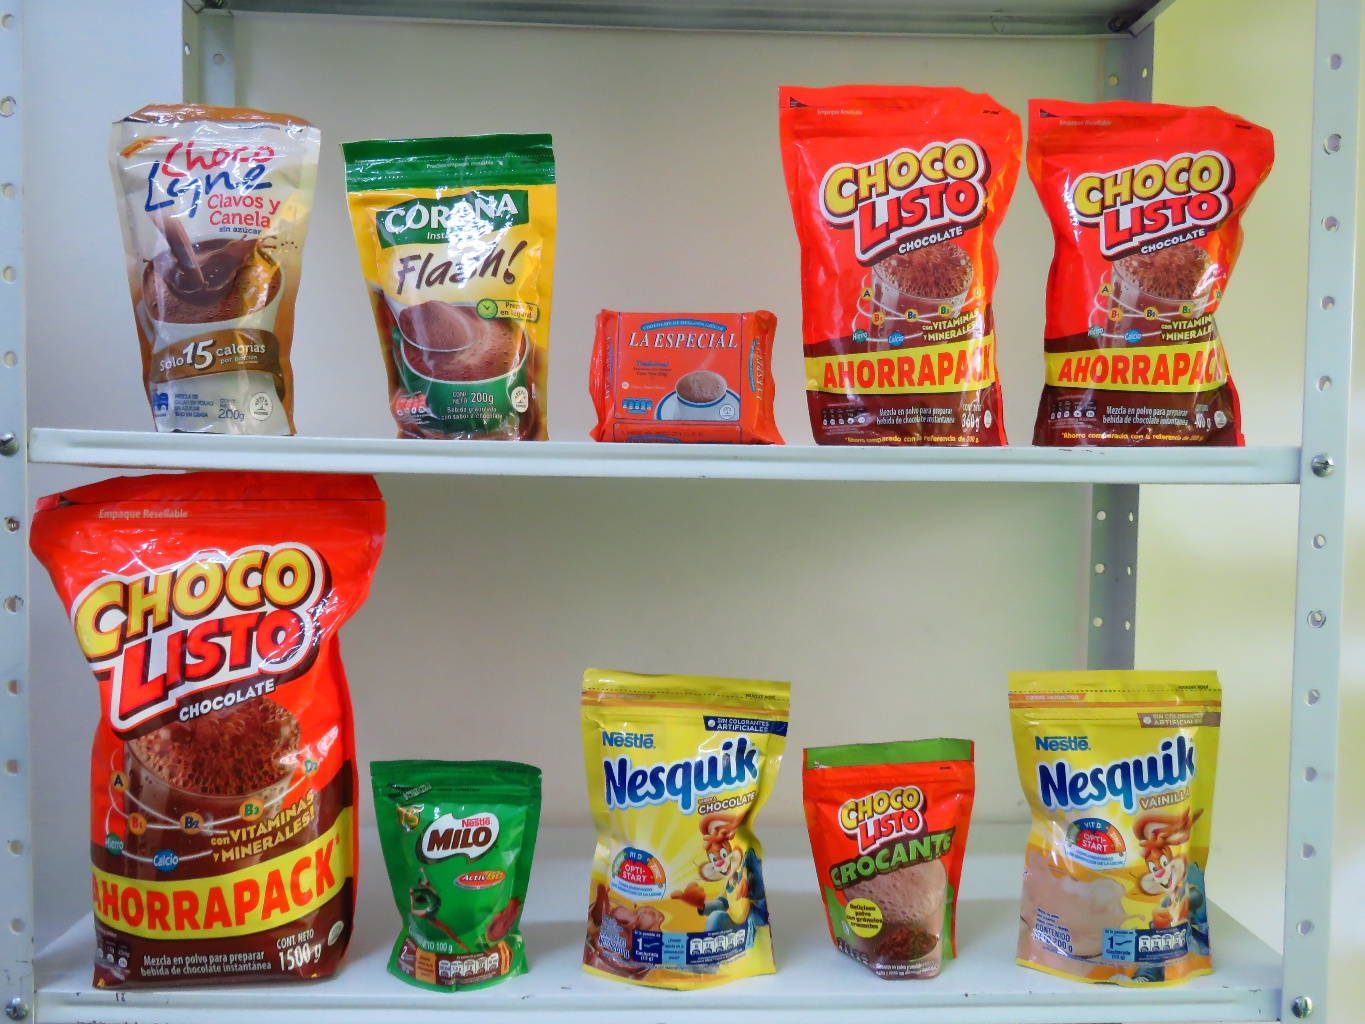COL0170102DYP10000: (782, 717, 993, 991)
COL0170103DYP1,500: (2, 451, 407, 1006)
COL0170103DYP36000: (756, 65, 1046, 455)
COL0170103DYP40000: (1009, 77, 1289, 464)
COL0170203DYP10000: (361, 740, 543, 1000)
COL0170303DYP20000: (549, 635, 800, 1004)
COL0170306DYP20000: (985, 644, 1259, 1002)
